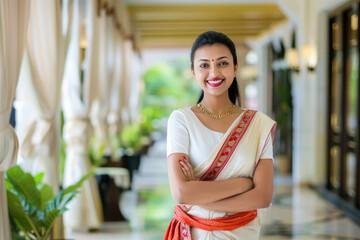Human: (165, 30, 282, 240)
